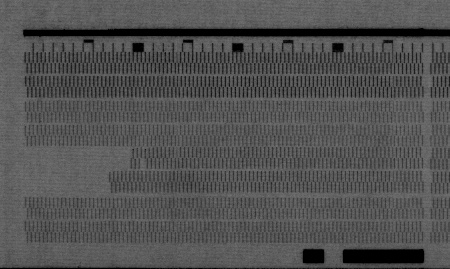Broken hole: (23, 144, 115, 198), (20, 146, 135, 172), (138, 159, 149, 170)
